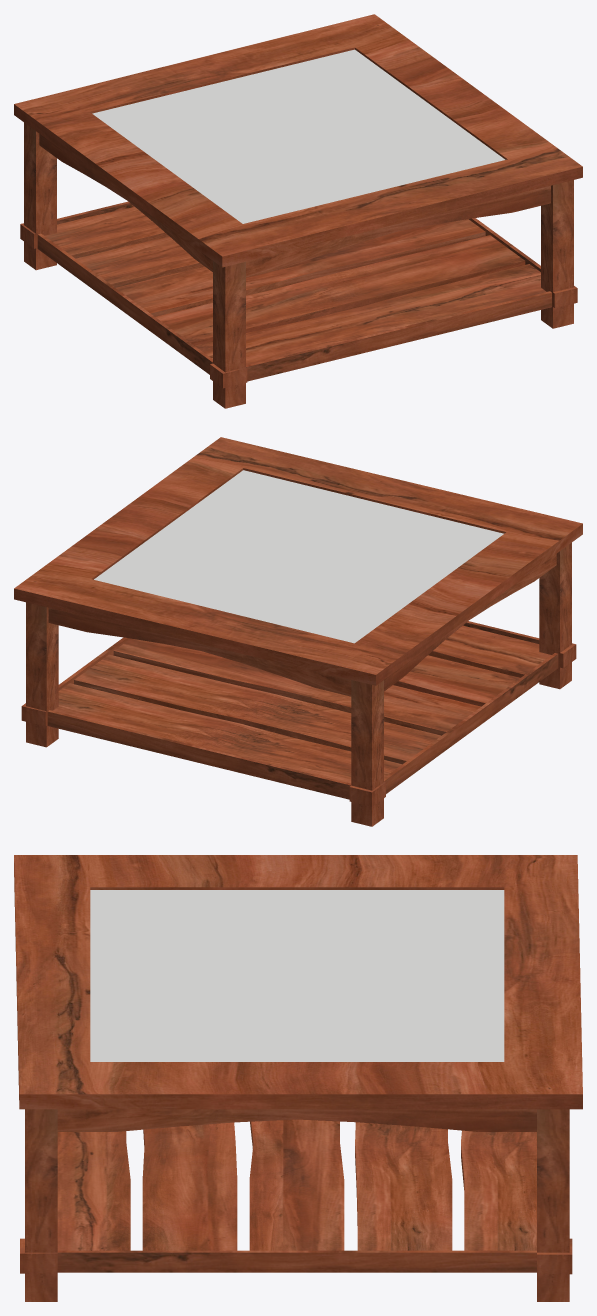
The model's file is coffeeTable.fbx.
The picture shows the model from 3 angles, top to bottom: view 1: azimuth 30°, elevation 25°; view 2: azimuth 150°, elevation 25°; view 3: azimuth 270°, elevation 25°; orthographic projection. The views are drawn at different scales.
Parts seen in each view (by area): view 1: Cube.011; view 2: Cube.011; view 3: Cube.011.
Boxes of the visible parts, <box> form: Cube.011: <box>14,14,582,408</box>; Cube.011: <box>14,437,582,826</box>; Cube.011: <box>14,855,582,1301</box>.
Bounding box in the file's own units: 104 × 42.99 × 104.
